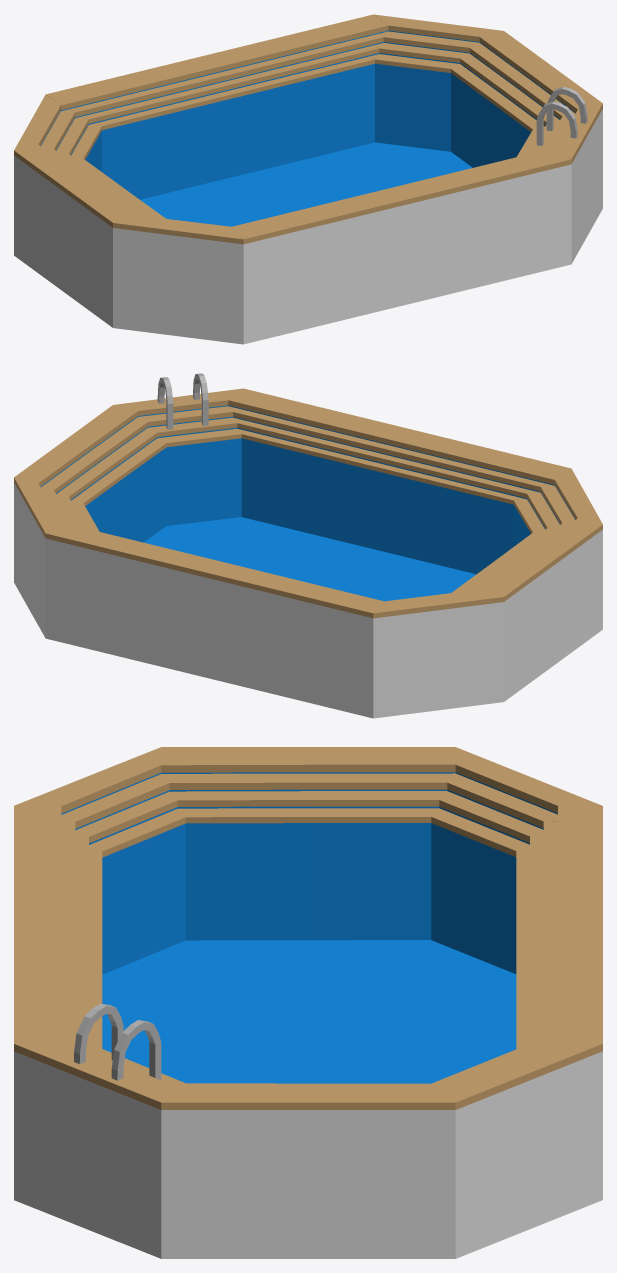
The model's file is Pool2.fbx.
3 renders of one model, top to bottom at view 1: azimuth 30°, elevation 25°; view 2: azimuth 150°, elevation 25°; view 3: azimuth 270°, elevation 25°, orthographic. The views are drawn at different scales.
Visible parts, largest first — view 1: Cube, Cube.004, Cube.001, Cube.003, Cube.002; view 2: Cube, Cube.004, Cube.001, Cube.003, Cube.002; view 3: Cube, Cube.004, Cube.001, Cube.003, Cube.002.
Boxes of the visible parts, x1=… form: Cube: x1=14, y1=14, x2=602, y2=344; Cube.004: x1=71, y1=54, x2=544, y2=226; Cube.001: x1=41, y1=31, x2=575, y2=227; Cube.003: x1=56, y1=43, x2=559, y2=227; Cube.002: x1=536, y1=86, x2=587, y2=145; Cube: x1=14, y1=388, x2=602, y2=718; Cube.004: x1=71, y1=428, x2=544, y2=601; Cube.001: x1=41, y1=406, x2=574, y2=602; Cube.003: x1=56, y1=417, x2=559, y2=601; Cube.002: x1=157, y1=373, x2=208, y2=429; Cube: x1=14, y1=747, x2=602, y2=1258; Cube.004: x1=89, y1=808, x2=529, y2=1083; Cube.001: x1=61, y1=773, x2=557, y2=1084; Cube.003: x1=75, y1=791, x2=543, y2=1084; Cube.002: x1=74, y1=1003, x2=161, y2=1080.
Size of the model in its own units: 2000 by 534 by 1400.
